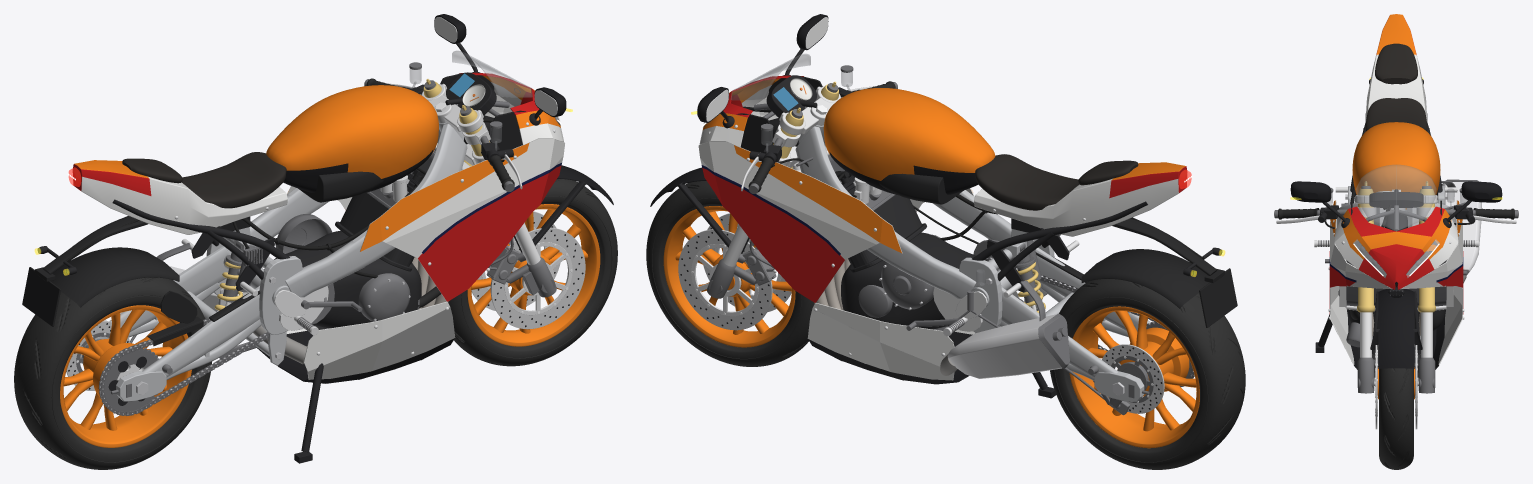
The model's file is bike_superbike.glb.
3 renders of one model, left to right at view 1: azimuth 30°, elevation 25°; view 2: azimuth 150°, elevation 25°; view 3: azimuth 270°, elevation 25°, orthographic. The views are drawn at different scales.
Visible parts, largest first — view 1: wheels__rear_wheel__tyre, frame_body__fuel_tank, frame_body__frame__main_spars, chassis__swingarm, wheels__front_wheel__tyre, frame_body__fairing__side_left__lower, frame_body__tail_unit, frame_body__fairing__side_left__red, frame_body__fairing__side_left, frame_body__rear_hugger, wheels__rear_wheel__rim, frame_body__seat (+33 smaller); view 2: wheels__rear_wheel__tyre, frame_body__fuel_tank, frame_body__frame__main_spars, wheels__front_wheel__tyre, frame_body__tail_unit, frame_body__fairing__side_right__red, frame_body__fairing__side_right__lower, frame_body__fairing__side_right, chassis__swingarm, powertrain__exhaust__silencer, wheels__rear_wheel__rim, frame_body__rear_hugger (+32 smaller); view 3: frame_body__fairing__upper, frame_body__fuel_tank, frame_body__fairing__screen, wheels__front_wheel__tyre, frame_body__front_mudguard, frame_body__tail_unit, frame_body__fairing__mirrors, frame_body__seat, frame_body__seat__pillion, powertrain__exhaust__silencer, frame_body__fairing__side_left, frame_body__fairing__side_right (+29 smaller).
Boxes of the visible parts, x1=… form: wheels__rear_wheel__tyre: x1=14, y1=277, x2=211, y2=469; frame_body__fuel_tank: x1=266, y1=85, x2=438, y2=192; frame_body__frame__main_spars: x1=206, y1=122, x2=467, y2=365; chassis__swingarm: x1=80, y1=246, x2=263, y2=401; wheels__front_wheel__tyre: x1=448, y1=179, x2=617, y2=366; frame_body__fairing__side_left__lower: x1=303, y1=301, x2=455, y2=379; frame_body__tail_unit: x1=73, y1=160, x2=287, y2=234; frame_body__fairing__side_left__red: x1=418, y1=165, x2=561, y2=301; frame_body__fairing__side_left: x1=360, y1=139, x2=564, y2=299; frame_body__rear_hugger: x1=50, y1=247, x2=197, y2=323; wheels__rear_wheel__rim: x1=60, y1=305, x2=191, y2=447; frame_body__seat: x1=181, y1=152, x2=286, y2=208; wheels__rear_wheel__tyre: x1=1050, y1=279, x2=1245, y2=469; frame_body__fuel_tank: x1=823, y1=88, x2=995, y2=195; frame_body__frame__main_spars: x1=795, y1=125, x2=1054, y2=333; wheels__front_wheel__tyre: x1=646, y1=181, x2=814, y2=366; frame_body__tail_unit: x1=974, y1=162, x2=1187, y2=236; frame_body__fairing__side_right__red: x1=702, y1=168, x2=844, y2=302; frame_body__fairing__side_right__lower: x1=807, y1=303, x2=954, y2=380; frame_body__fairing__side_right: x1=698, y1=141, x2=902, y2=300; chassis__swingarm: x1=997, y1=248, x2=1150, y2=401; powertrain__exhaust__silencer: x1=947, y1=314, x2=1061, y2=378; wheels__rear_wheel__rim: x1=1069, y1=306, x2=1199, y2=448; frame_body__rear_hugger: x1=1081, y1=249, x2=1209, y2=308; frame_body__fairing__upper: x1=1334, y1=206, x2=1458, y2=289; frame_body__fuel_tank: x1=1352, y1=122, x2=1440, y2=209; frame_body__fairing__screen: x1=1356, y1=164, x2=1436, y2=231; wheels__front_wheel__tyre: x1=1379, y1=368, x2=1413, y2=469; frame_body__front_mudguard: x1=1378, y1=289, x2=1414, y2=368; frame_body__tail_unit: x1=1366, y1=14, x2=1426, y2=120; frame_body__fairing__mirrors: x1=1290, y1=181, x2=1502, y2=202; frame_body__seat: x1=1365, y1=98, x2=1427, y2=131; frame_body__seat__pillion: x1=1375, y1=43, x2=1417, y2=84; powertrain__exhaust__silencer: x1=1442, y1=182, x2=1481, y2=275; frame_body__fairing__side_left: x1=1330, y1=200, x2=1392, y2=314; frame_body__fairing__side_right: x1=1400, y1=200, x2=1462, y2=314.
Bounding box in the file's own units: 202 × 104 × 84.55.
